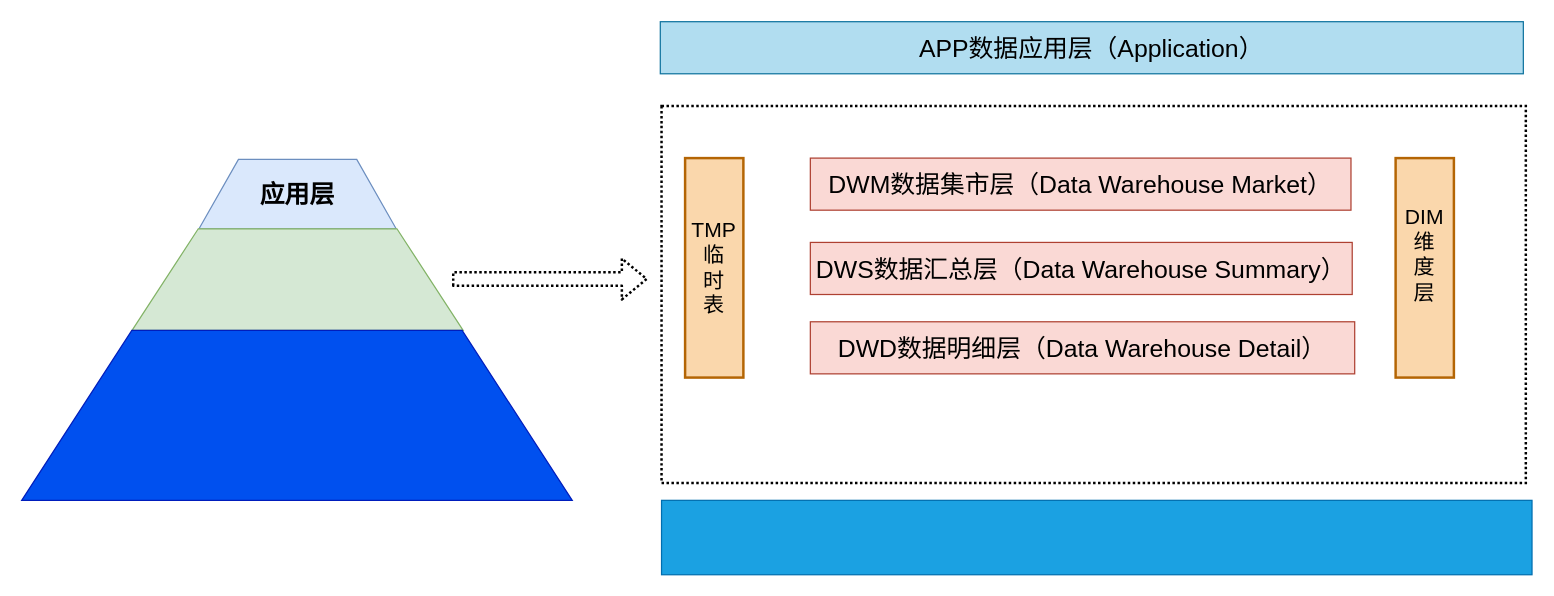
This 1554x596 diagram has some shape labels left out. Here are the shapes that lost their labels. From the top down, the centre of each, then its label:
the point at 297,279: 中间层
the point at 296,414: 接入层
the point at 1096,537: ODS数据接入层（Operational Data Store）
